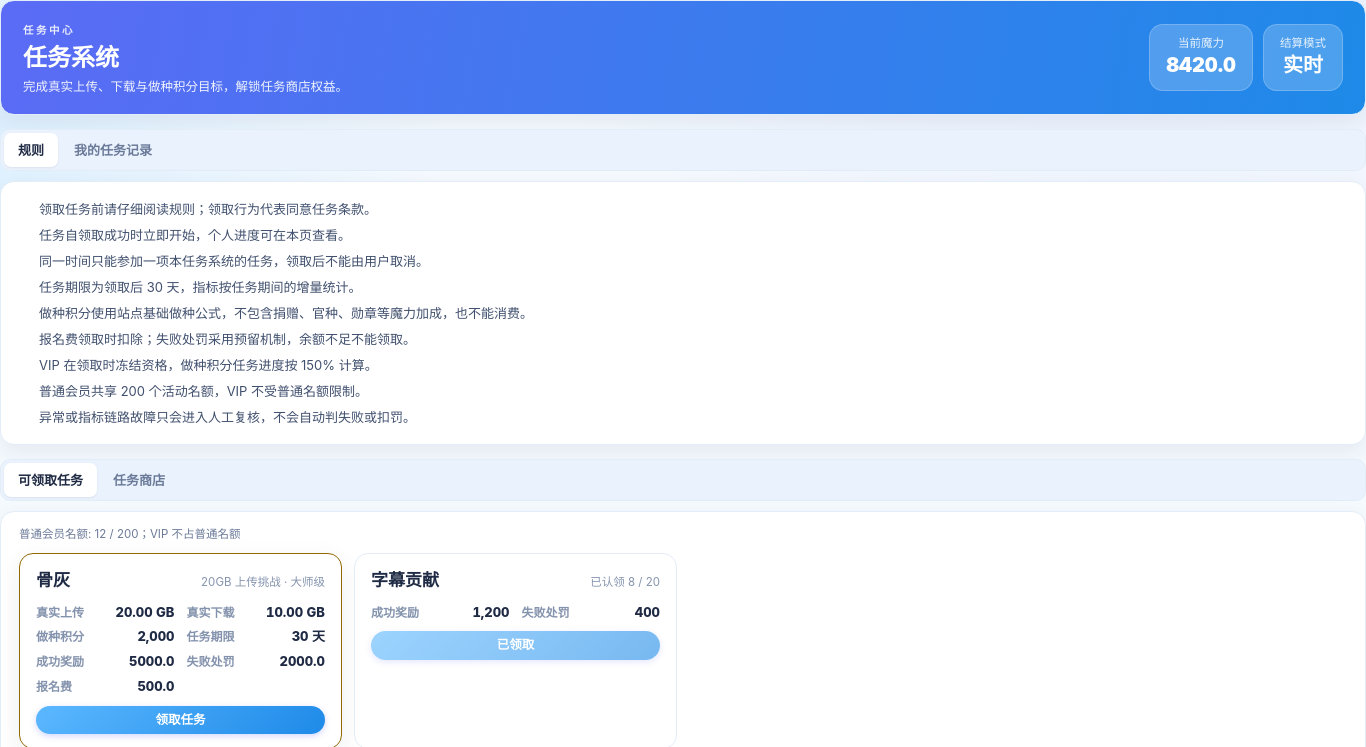
Test: 任务页两组标签 › 切到「我的任务记录」：记录表进来，组二仍停在「可领取任务」
This screenshot has width=1366, height=747.
Expected: the text "20GB 上传挑战 · 大师级" is shown, [201,574,325,591]
Click the tab "我的任务记录" at (113, 150), box [60,133,166,167]
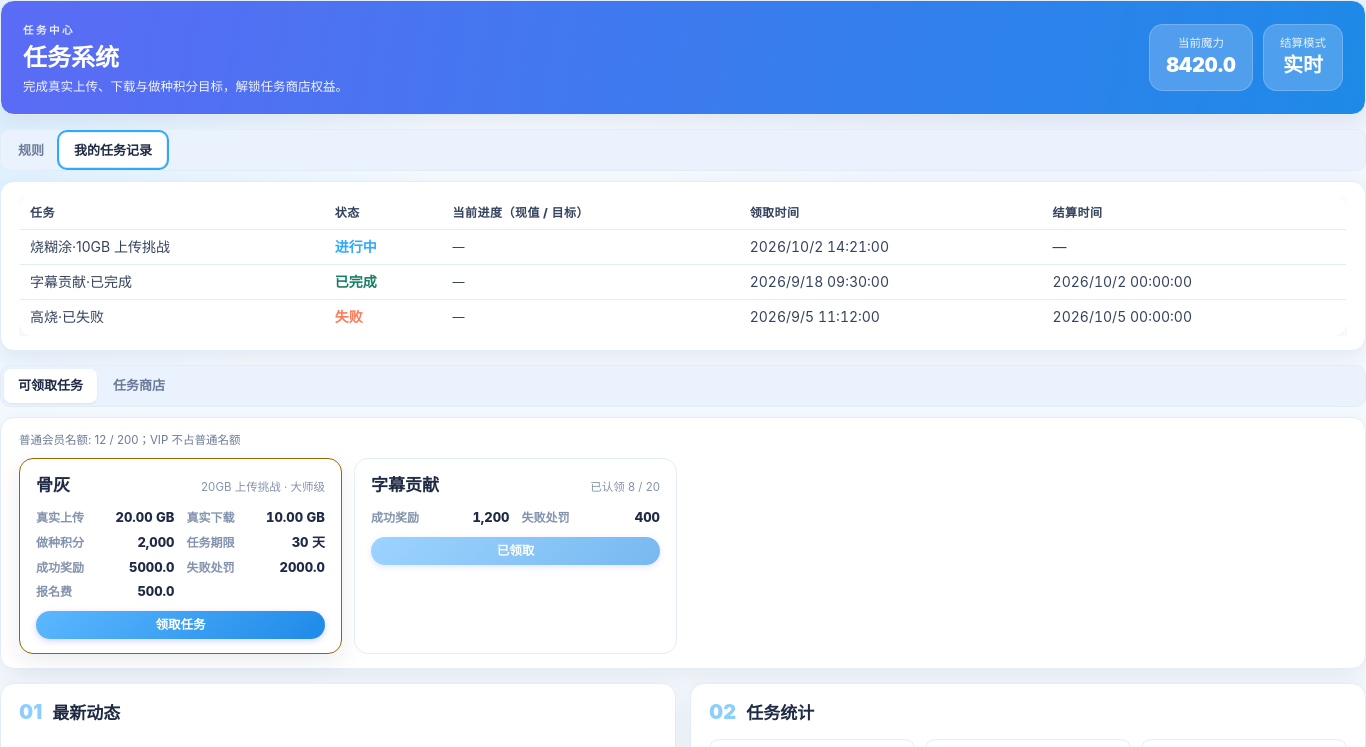
Expected: the text "20GB 上传挑战 · 大师级" is shown, [201,479,325,496]
Now the text "烧糊涂·10GB 上传挑战" is shown, box [20,229,325,264]
Now the list item "领取任务前请仔细阅读规则；领取行为代表同意任务条款。" is gone
